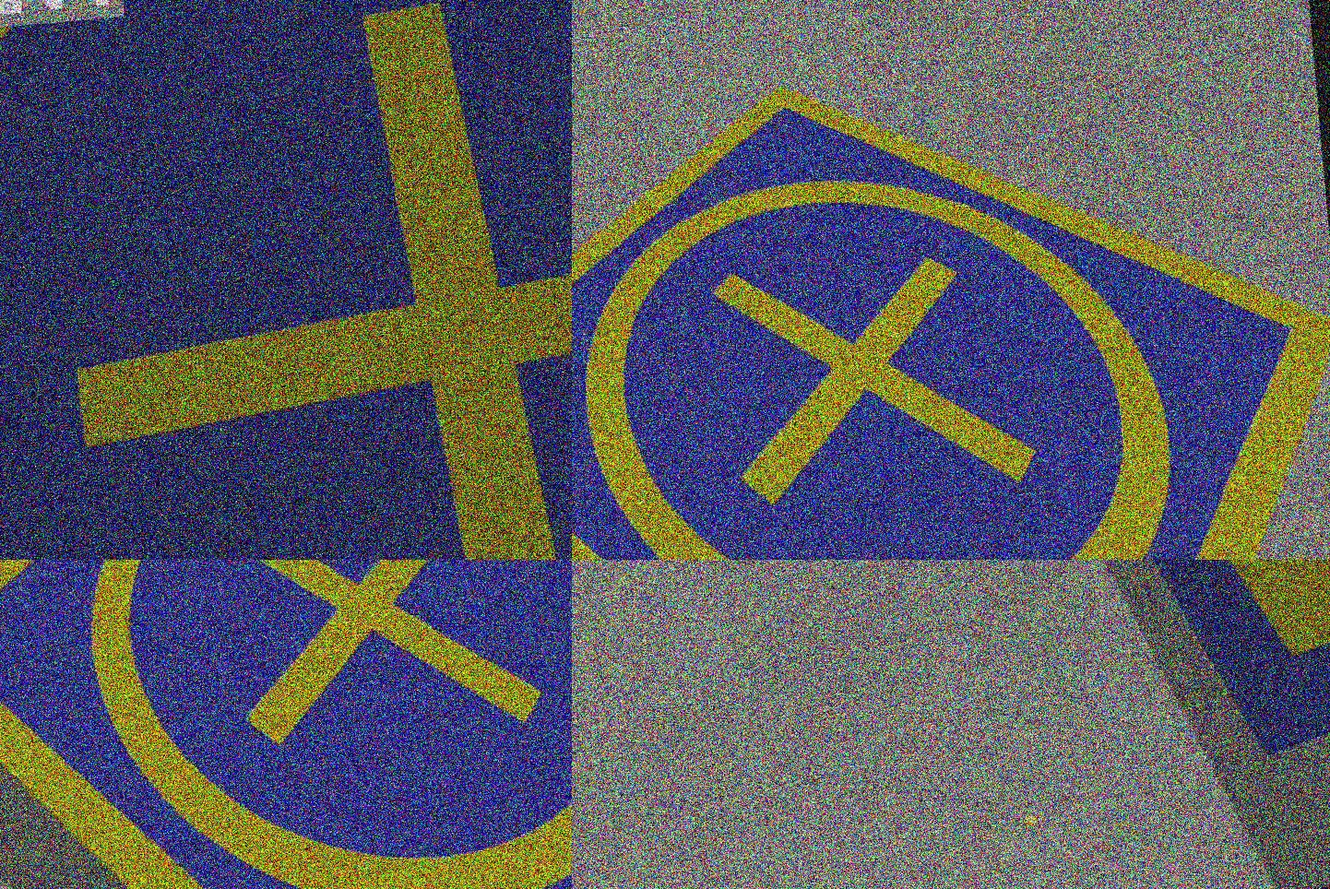large_base: (1, 1, 573, 561), (1020, 561, 1330, 776)
small_base: (573, 34, 1330, 561), (1, 561, 573, 889)
